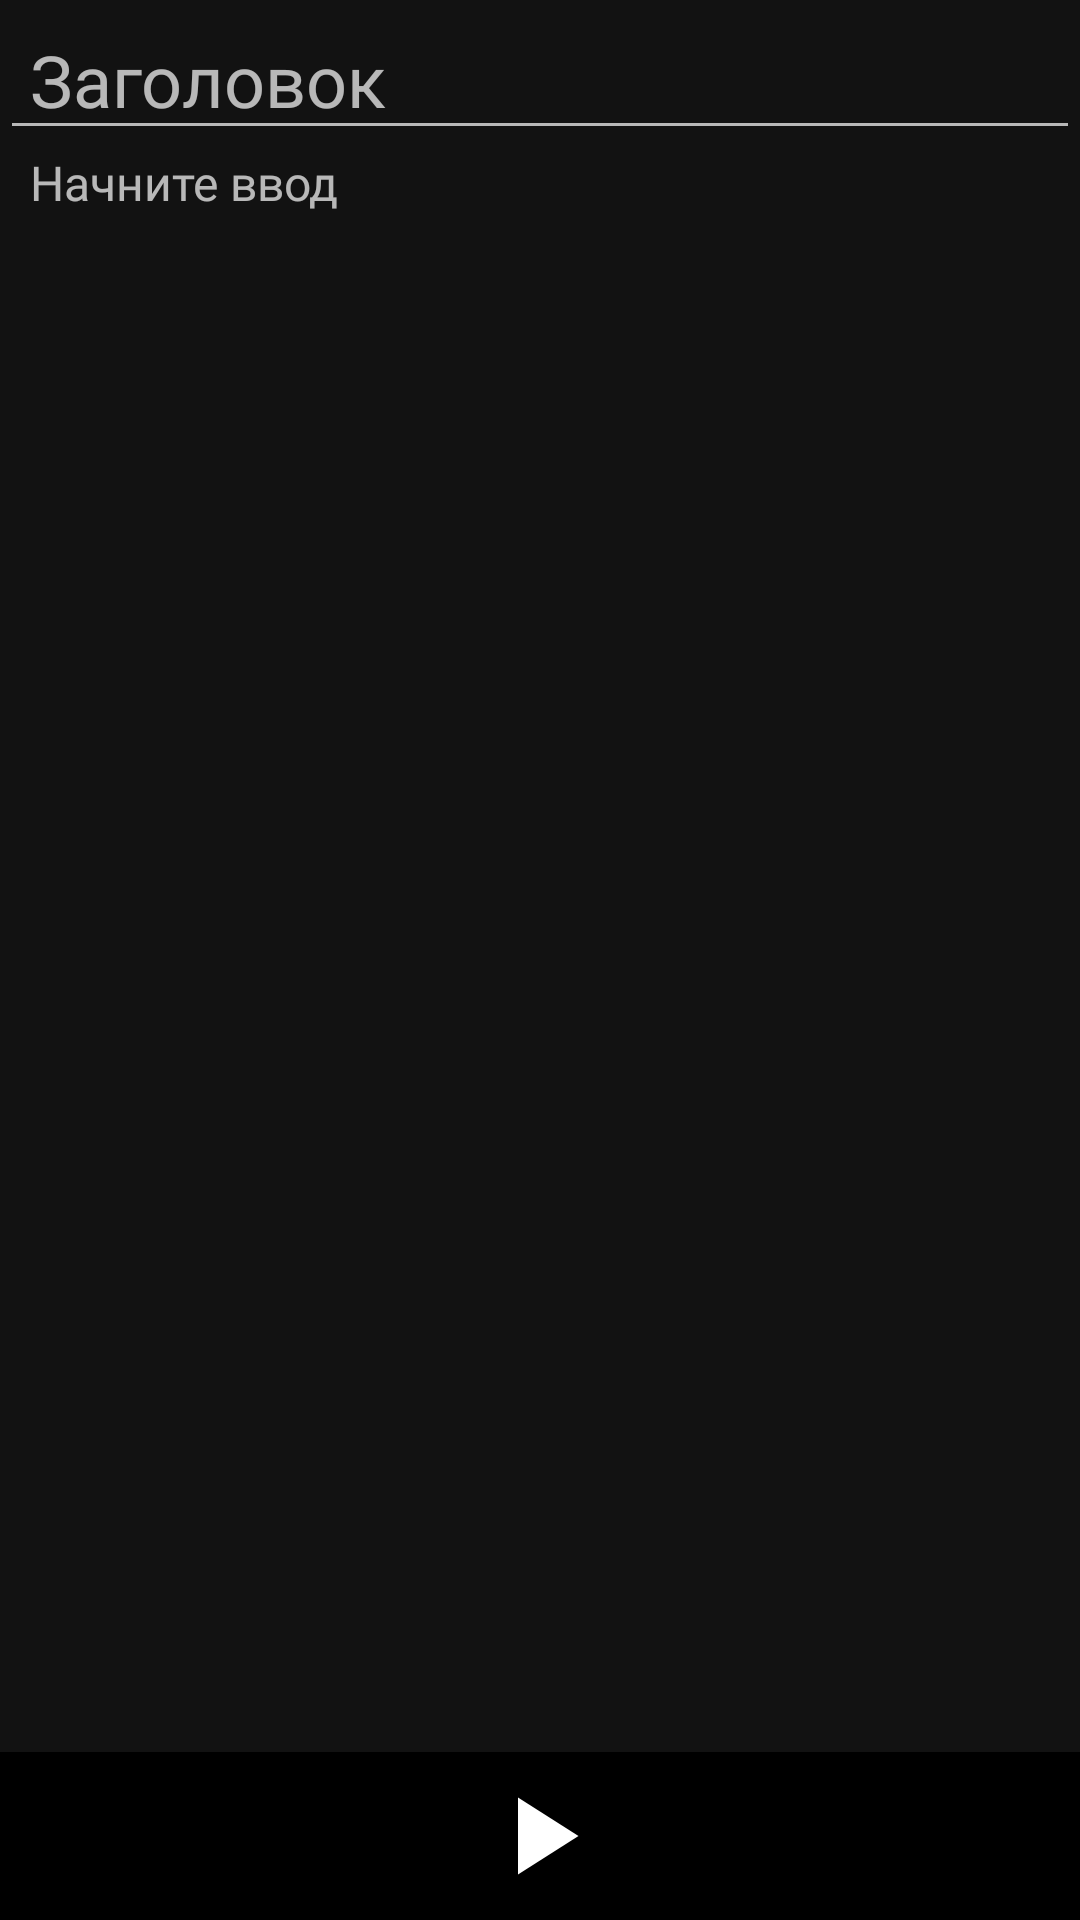

Where icons sit on this 1080*1920 app screen, as detection(x1, y1, x2, y2):
play arrow: detection(518, 1797, 578, 1875)
